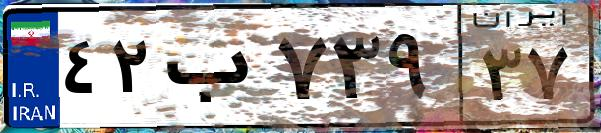2: (110, 28, 158, 98)
3: (330, 28, 385, 110), (475, 38, 525, 113)
4: (57, 26, 110, 100)
7: (270, 28, 330, 110), (525, 38, 570, 115)
9: (385, 28, 445, 110)
ب: (158, 20, 270, 120)
